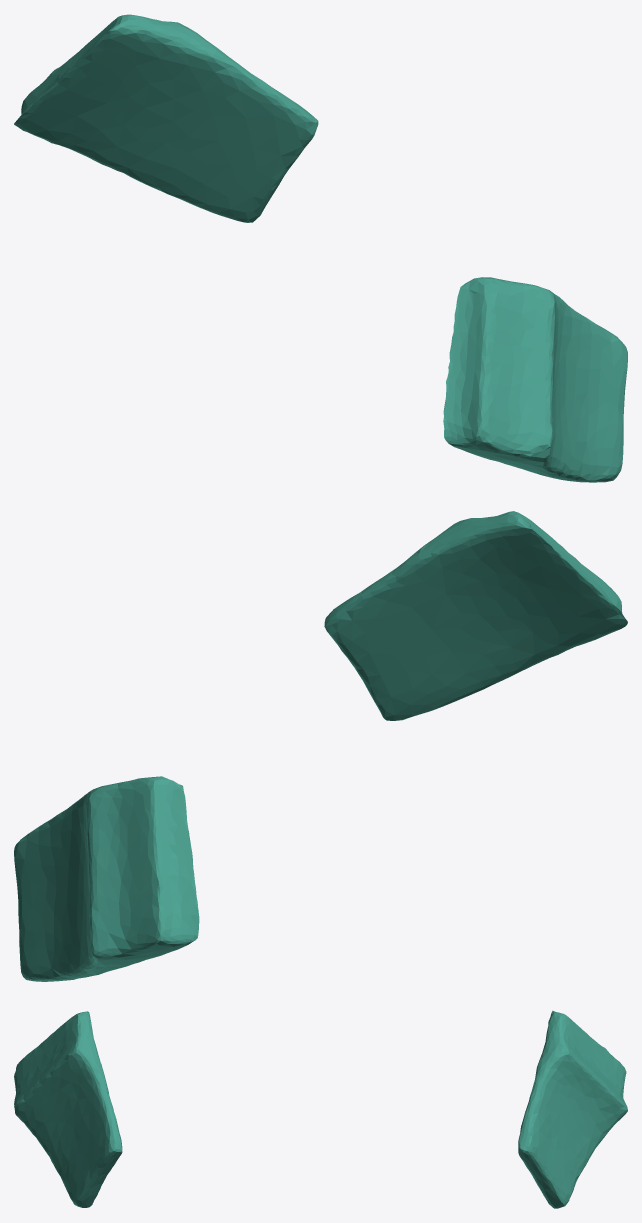
3 renders of one model, top to bottom at view 1: azimuth 30°, elevation 25°; view 2: azimuth 150°, elevation 25°; view 3: azimuth 270°, elevation 25°, orthographic. The views are drawn at different scales.
Visible parts, largest first — view 1: 182305689.obj; view 2: 182305689.obj; view 3: 182305689.obj.
Part boxes in pixels (x1,y1,x2,y2): 182305689.obj: (14, 14, 627, 482); 182305689.obj: (14, 511, 627, 981); 182305689.obj: (14, 1010, 627, 1208).
Size of the model in its own units: 2057 by 1899 by 6792.
